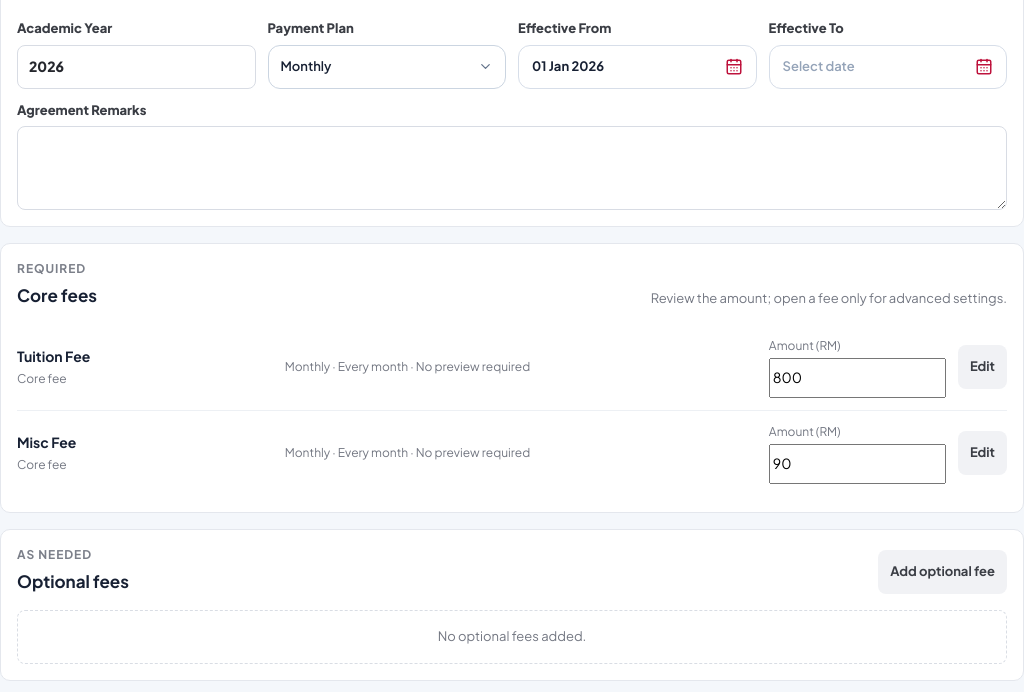
Test: FeeAgreementEditor › shows month choices immediately for Custom billing
This screenshot has width=1024, height=692.
(page scrolled)
Click the button with aria-label "Edit Tuition Fee".
click(982, 367)  # box [958, 345, 1007, 389]
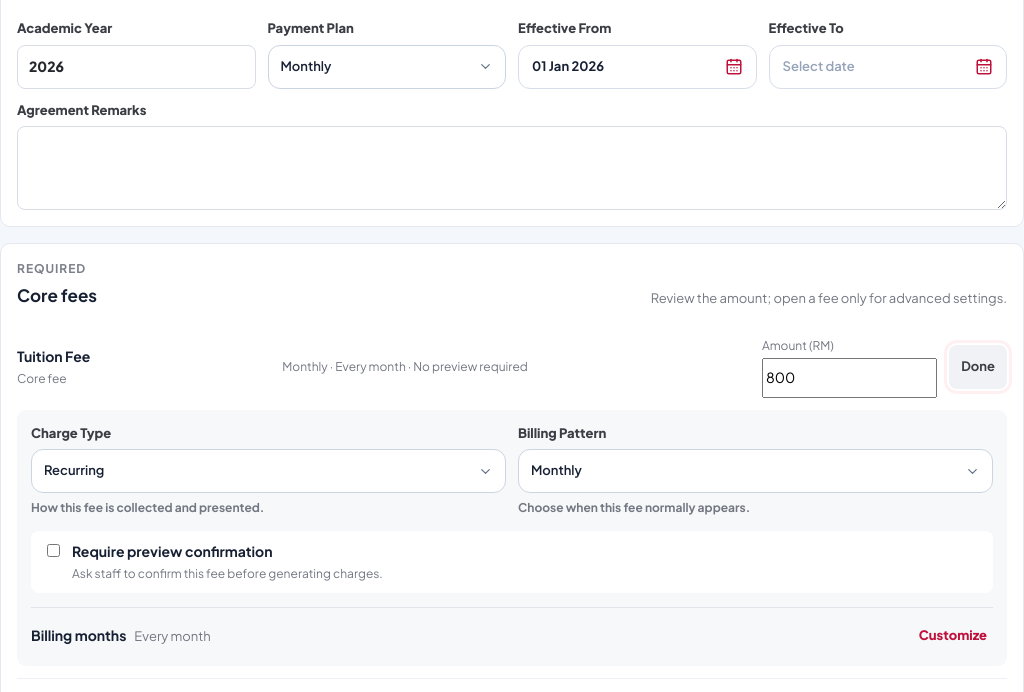
Select "Custom months" in the dropdown named "Tuition Fee Billing Pattern" at (756, 470), box [518, 424, 993, 517]
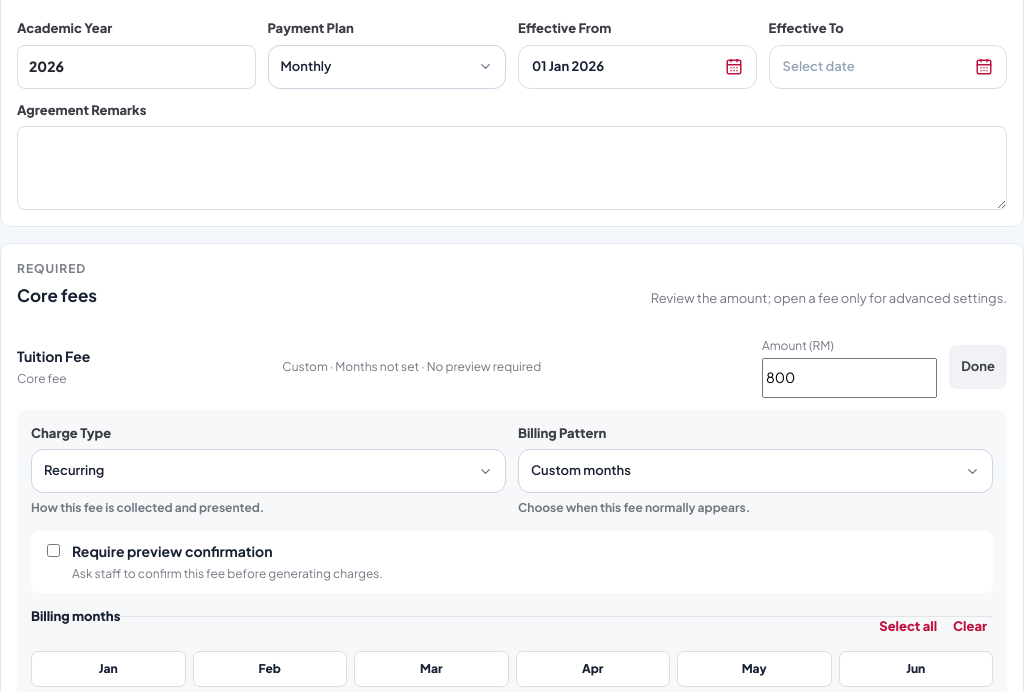
Check: the checkbox labelled "Jan" is shown, box [31, 651, 186, 687]
